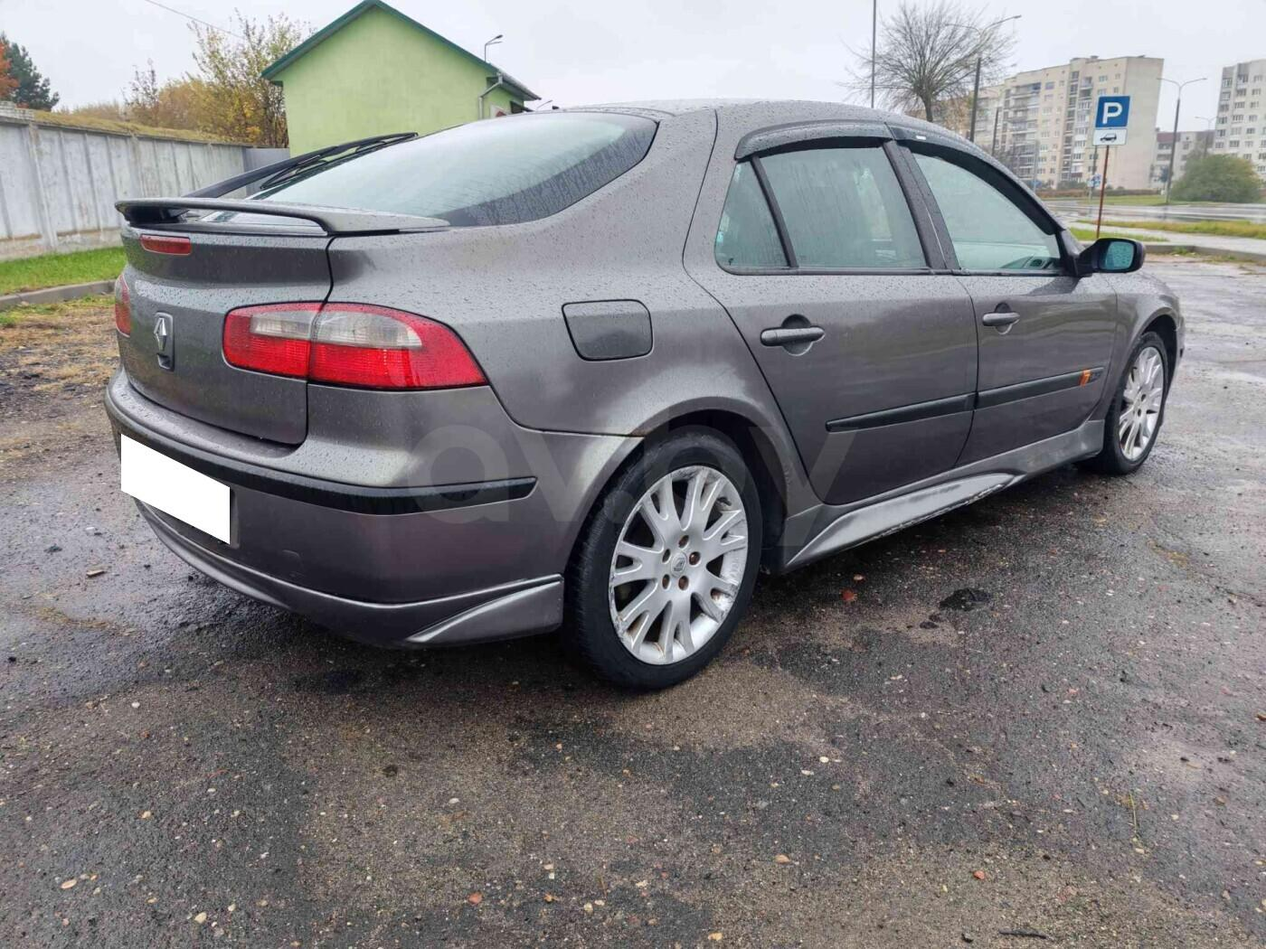Laguna_2001-2005: (102, 99, 1186, 692)
